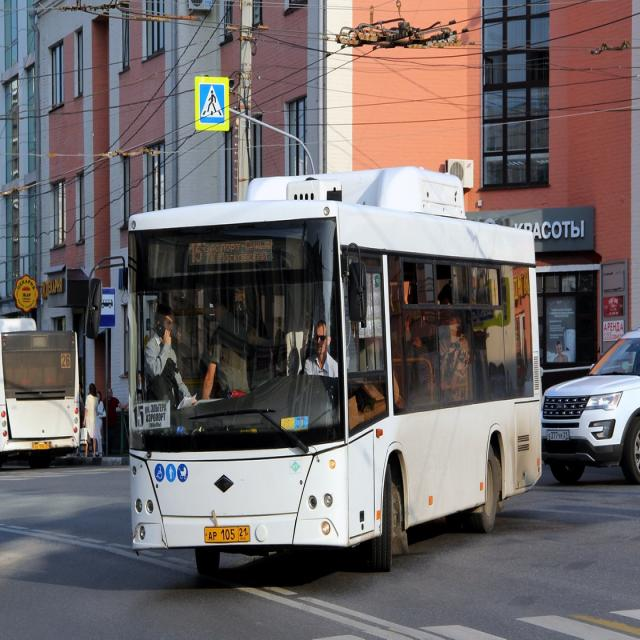number-of-bus: (130, 401, 148, 436)
